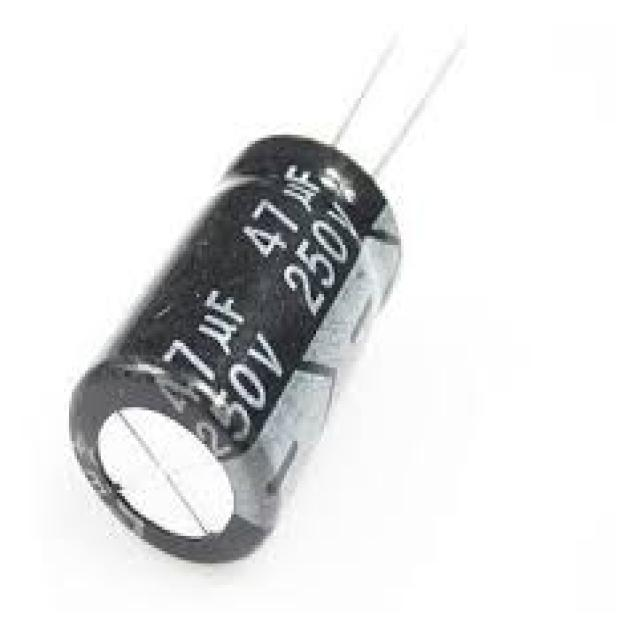Capacitor: (69, 24, 470, 567)
